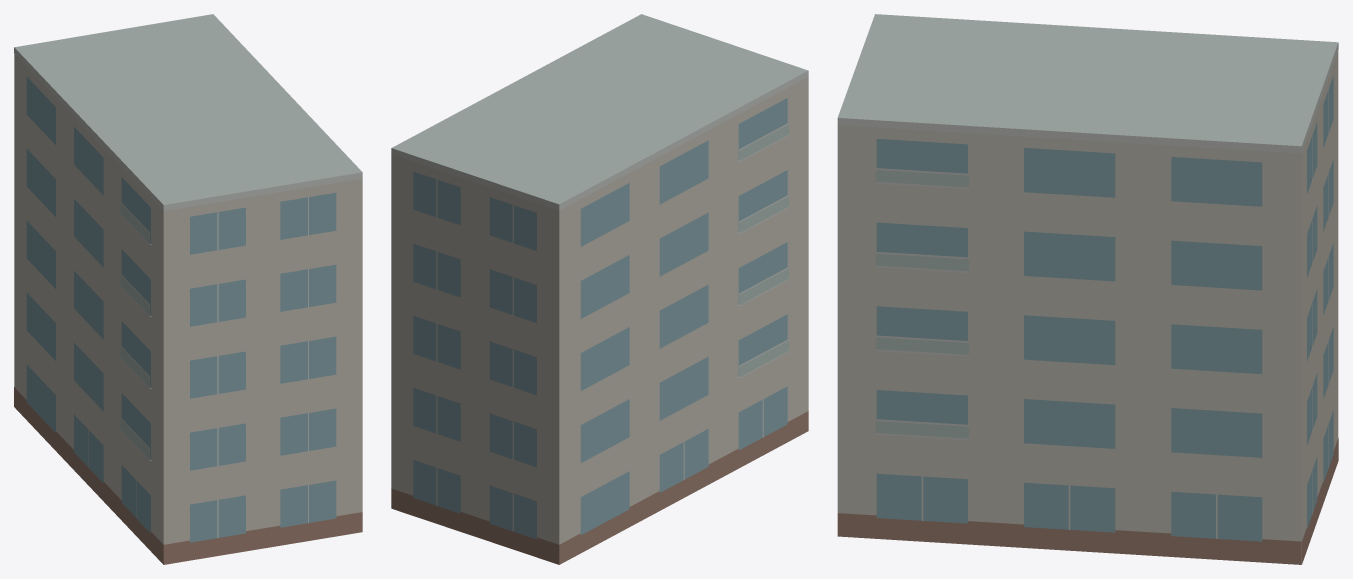
File: survey-upis-32659158.glb
The picture shows the model from 3 angles, left to right: view 1: azimuth 30°, elevation 25°; view 2: azimuth 150°, elevation 25°; view 3: azimuth 270°, elevation 25°; orthographic projection. The views are drawn at different scales.
Parts seen in each view (by area): view 1: survey-upis-32659158.tmp; view 2: survey-upis-32659158.tmp; view 3: survey-upis-32659158.tmp.
Boxes of the visible parts, x1,y1,x2,y2 form: survey-upis-32659158.tmp: [14, 14, 362, 564]; survey-upis-32659158.tmp: [391, 14, 808, 564]; survey-upis-32659158.tmp: [837, 14, 1338, 564].
Size of the model in its own units: 9.63 by 14.2 by 15.41.
